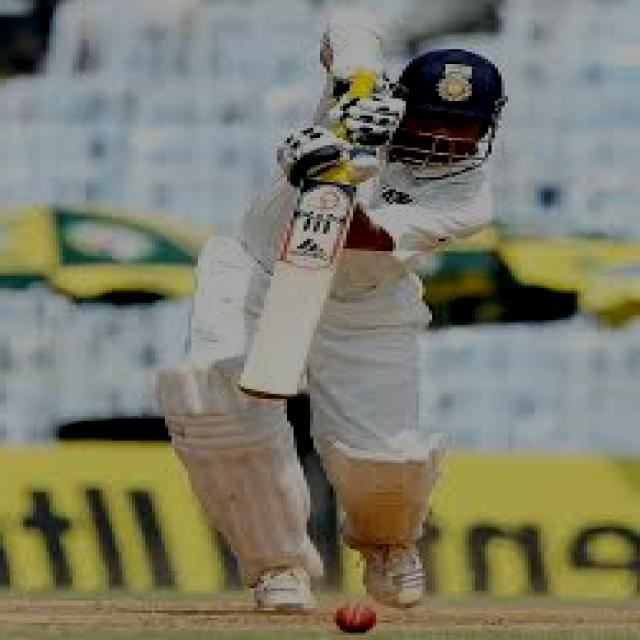bat: (222, 165, 357, 438)
toe: (240, 383, 297, 406)
